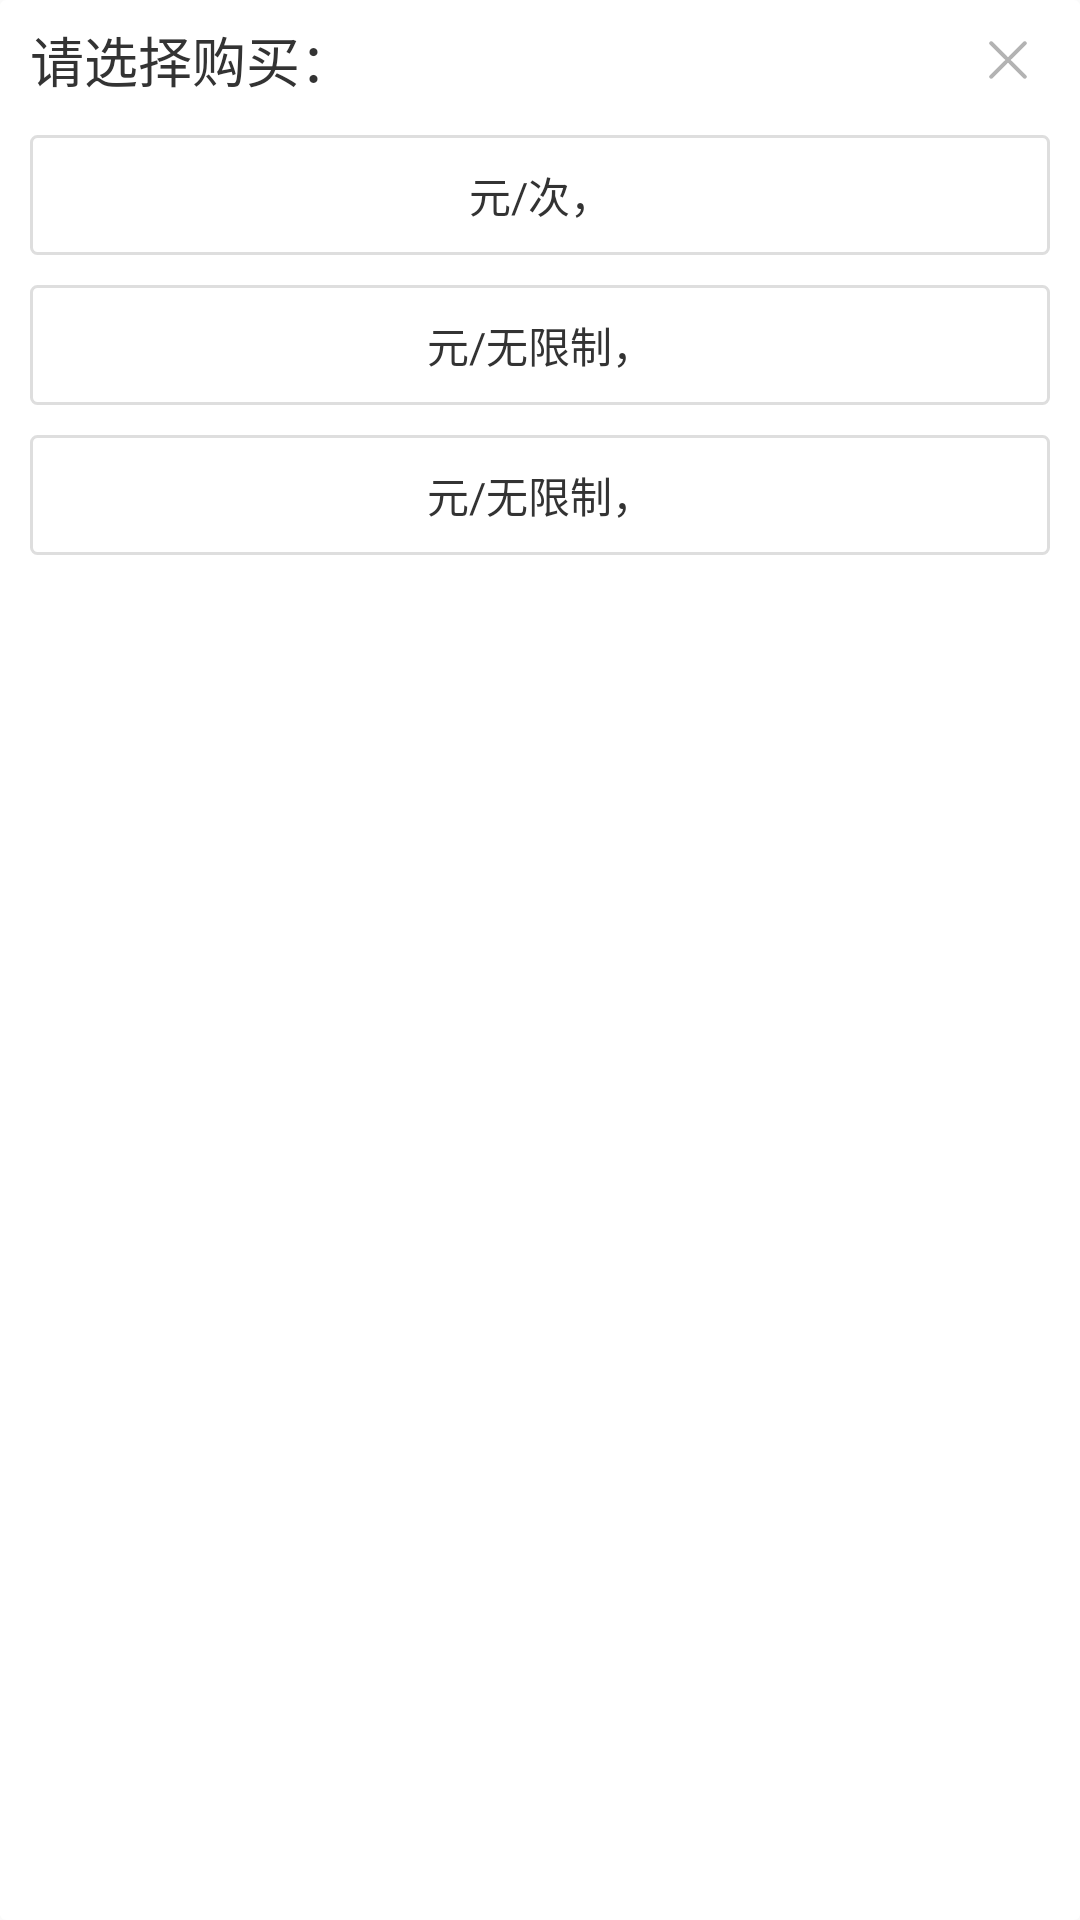

Locate icon controls on the screen. Image size 1080*1920, boxes as bbox=[x1, y1, x2, y2].
close: bbox=[989, 41, 1027, 79]
